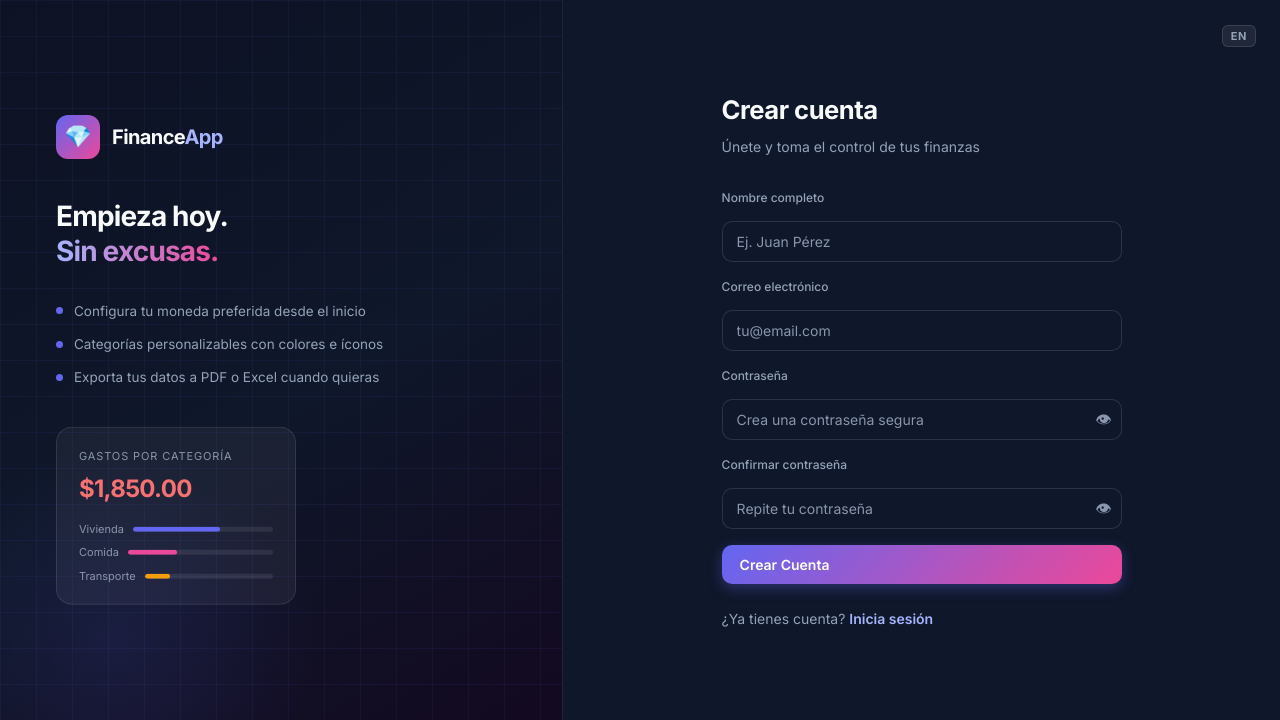
Test: Authentication Flow › Registration › Debe redirigir a / despues del registro exitoso
The image size is (1280, 720).
Type "Test User" into the field with test id "name-input" at (922, 242), box [722,221,1122,262]
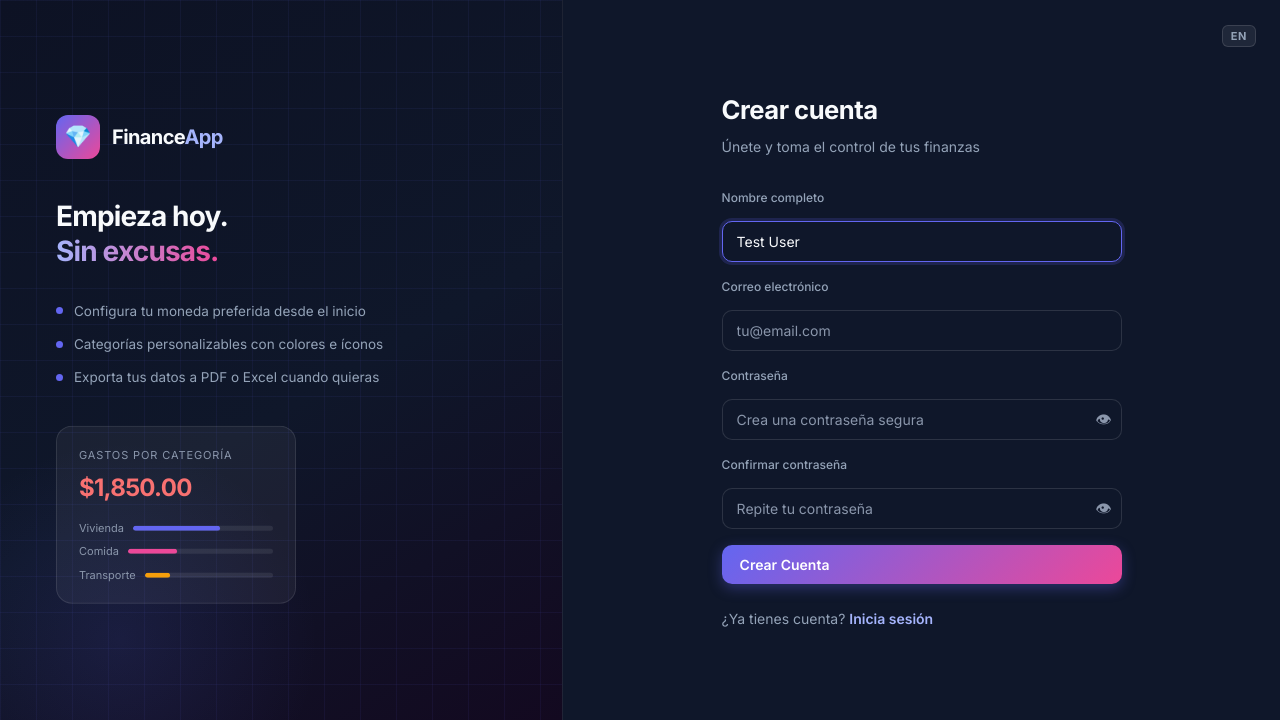
Type "testuser@example.com" into the field with test id "email-input" at (922, 331), box [722,310,1122,351]
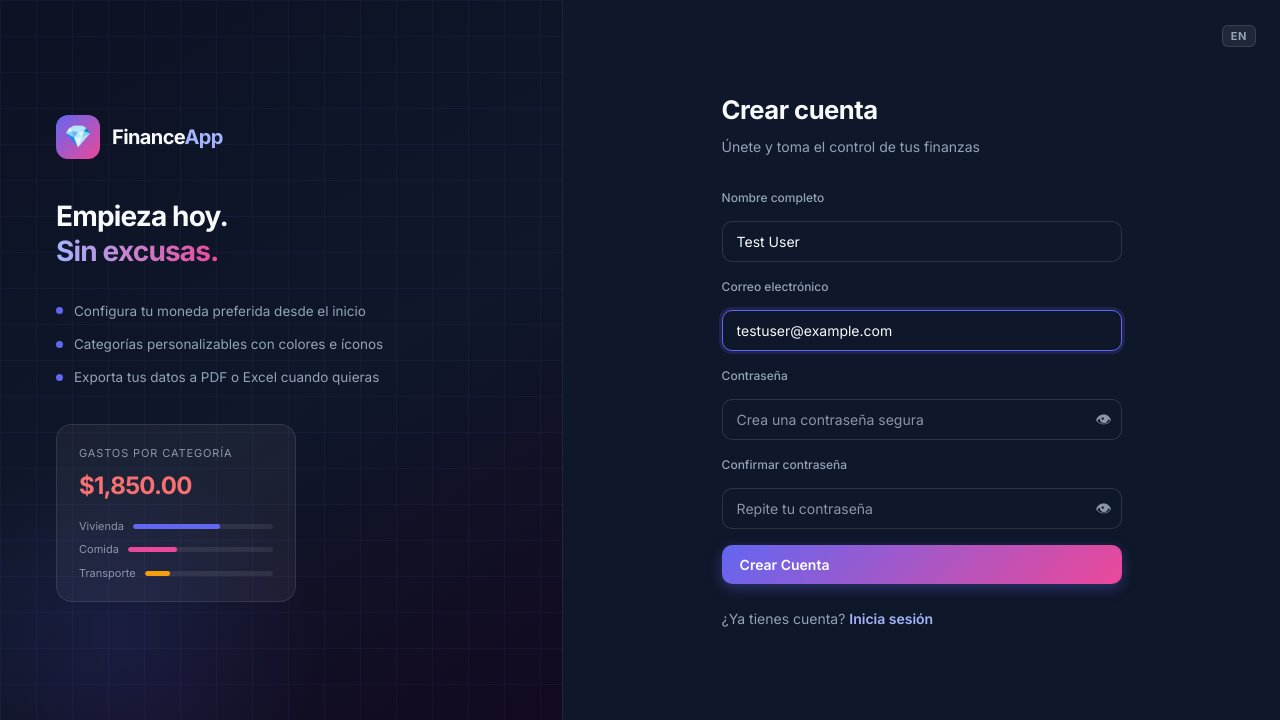
Type "Test1234!" into the password field with test id "password-input" at (922, 420), box [722,399,1122,440]
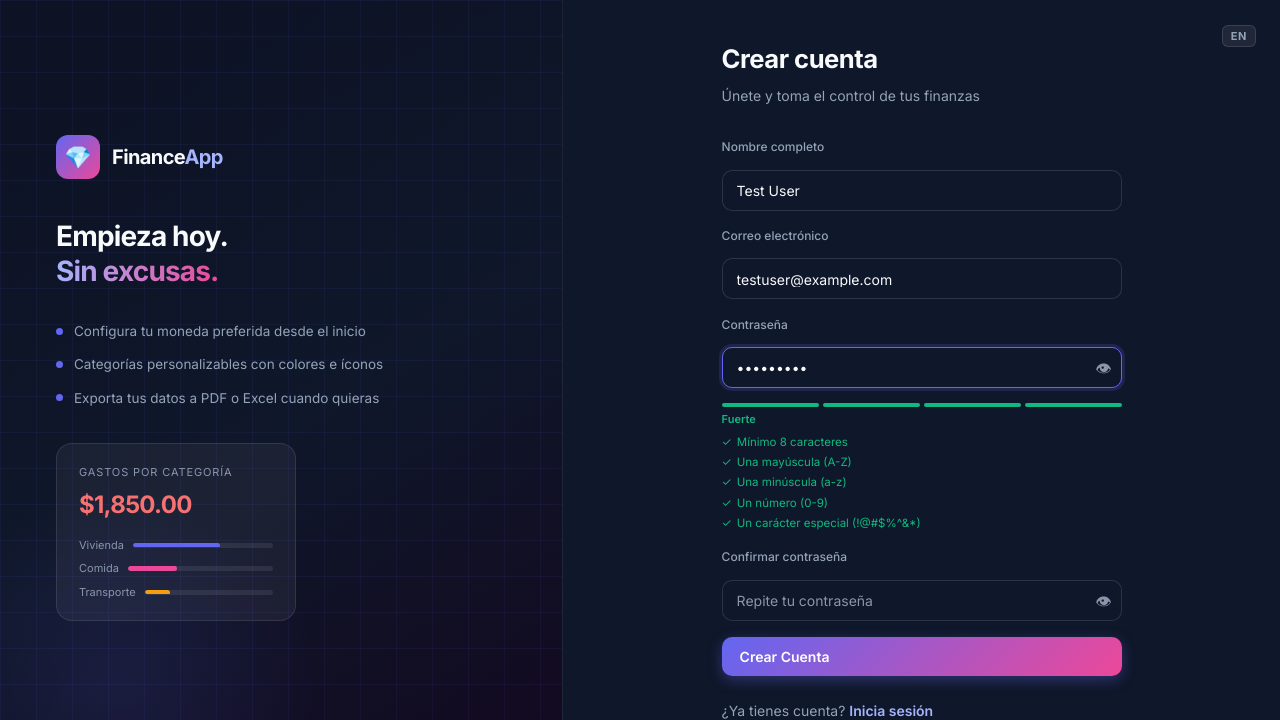
Type "Test1234!" into the password field with test id "confirm-password-input" at (922, 601), box [722,580,1122,621]
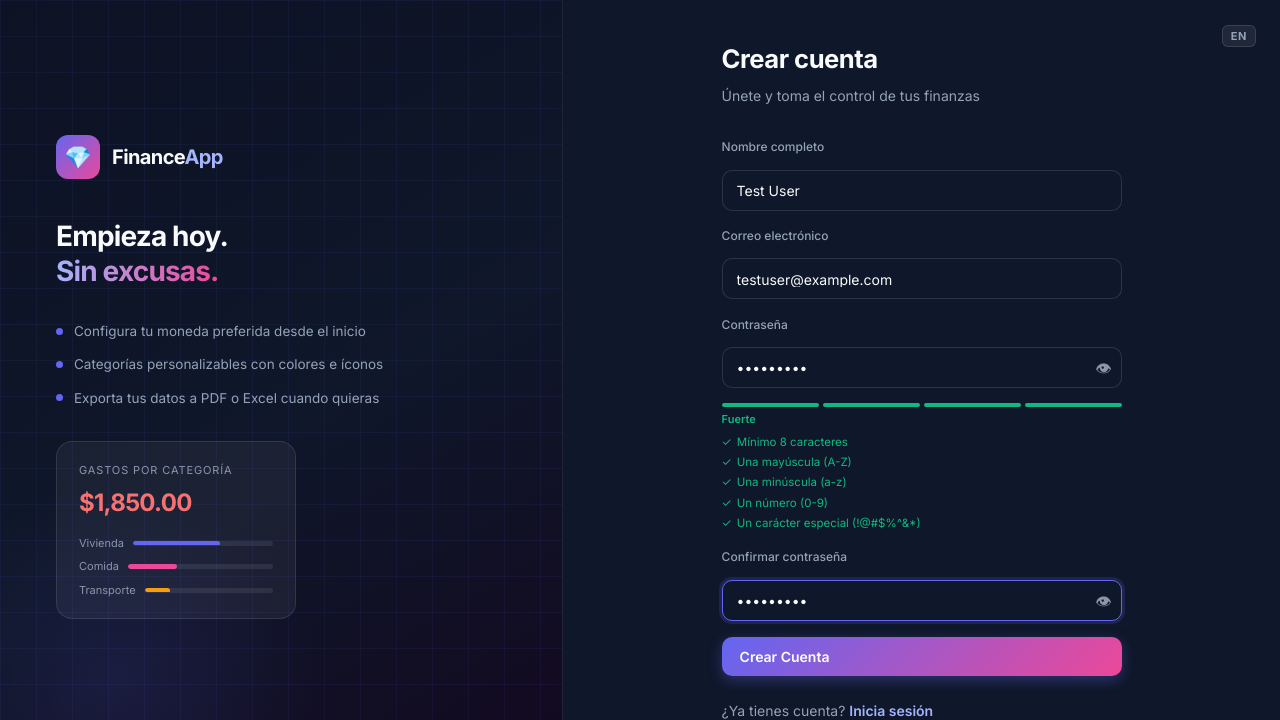
Click the button with test id "register-button" at (785, 657), box [722,637,1122,676]
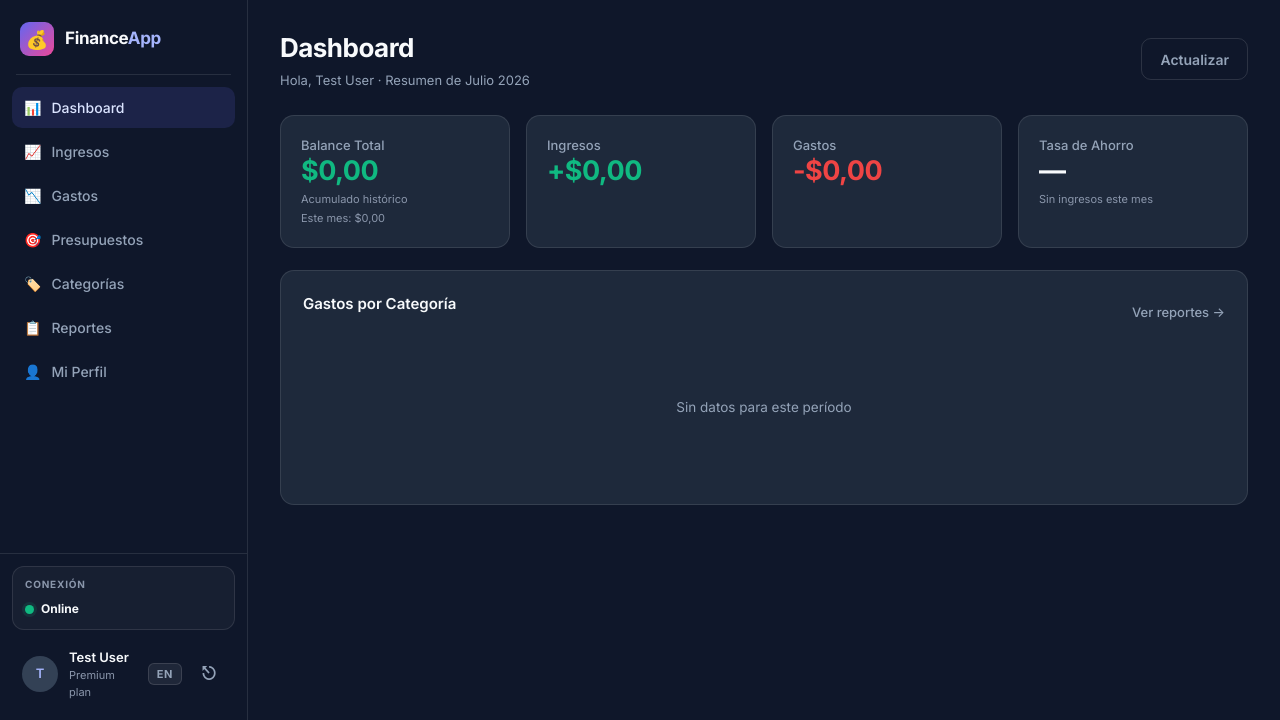
Now the element with test id "dashboard-balance" is shown, box [280,115,510,248]
